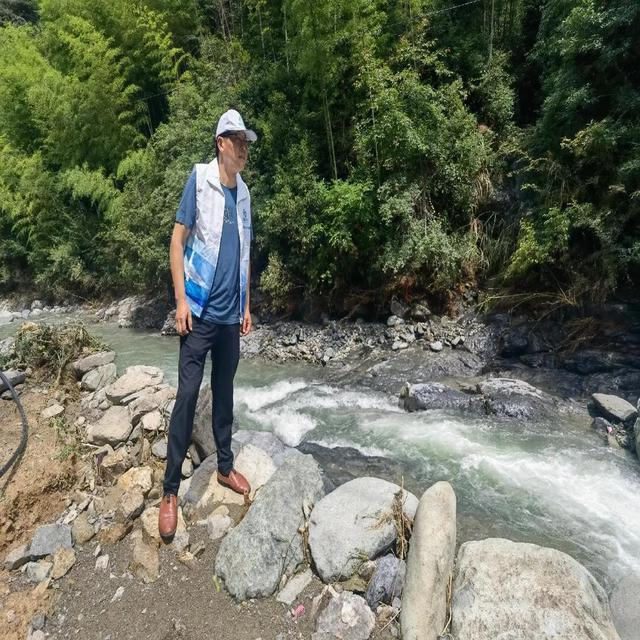Person-RiskLevel1: (146, 107, 269, 541)
